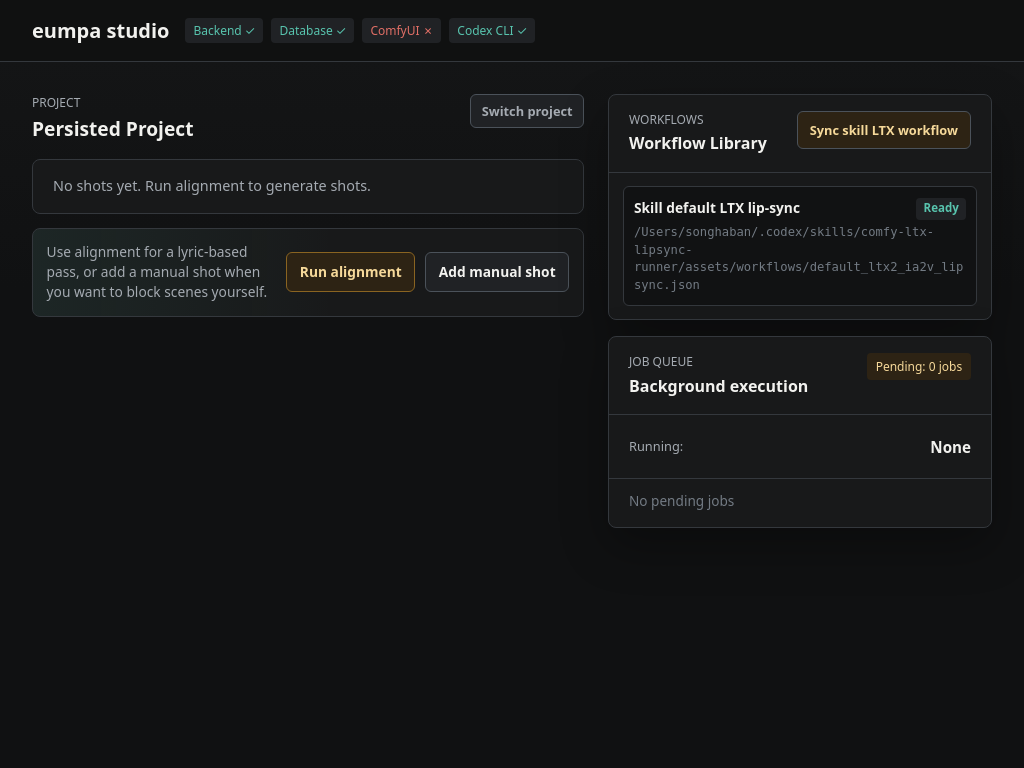
Scenario: App workspace flow › syncs the bundled skill workflow with clear feedback
Click the button "Sync skill LTX workflow".
click(884, 130)  # box [797,111,971,149]
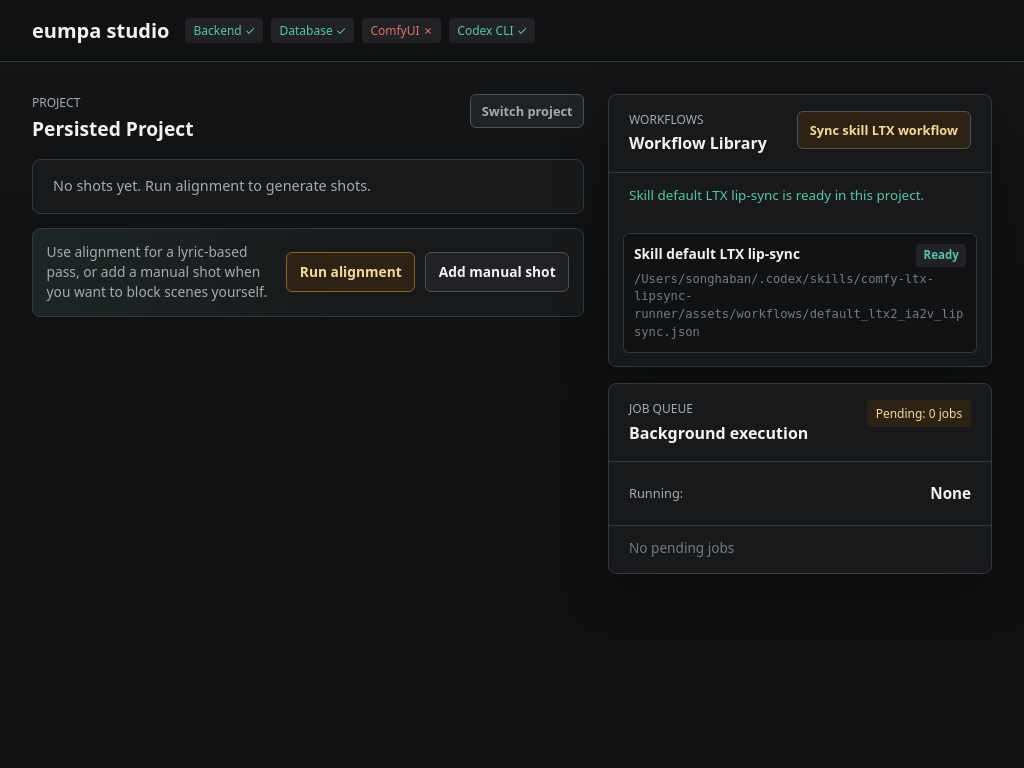
Result: the text "Skill default LTX lip-sync is ready in this project." is shown at [629,186,924,204]
